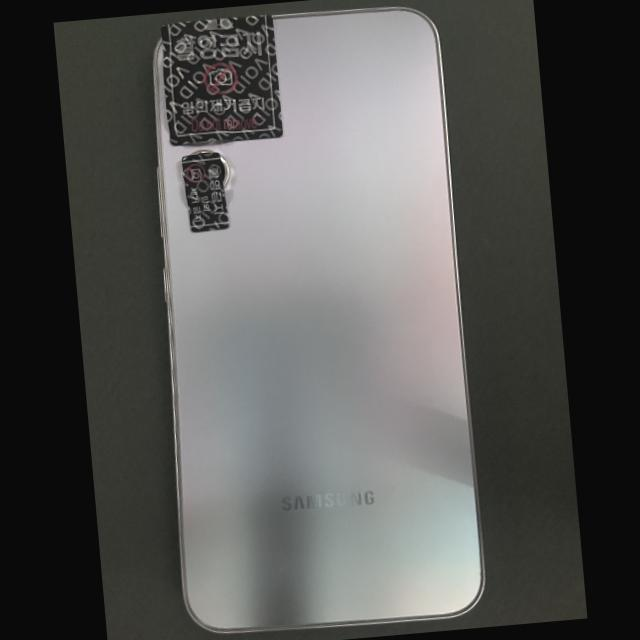phone: (155, 9, 483, 631)
sticker: (162, 16, 282, 145), (182, 152, 229, 232)
